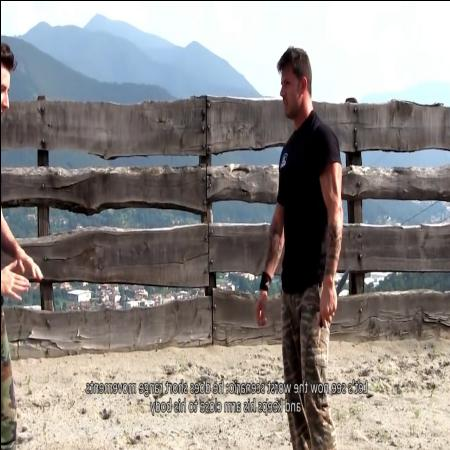long weapon: (314, 256, 354, 330)
